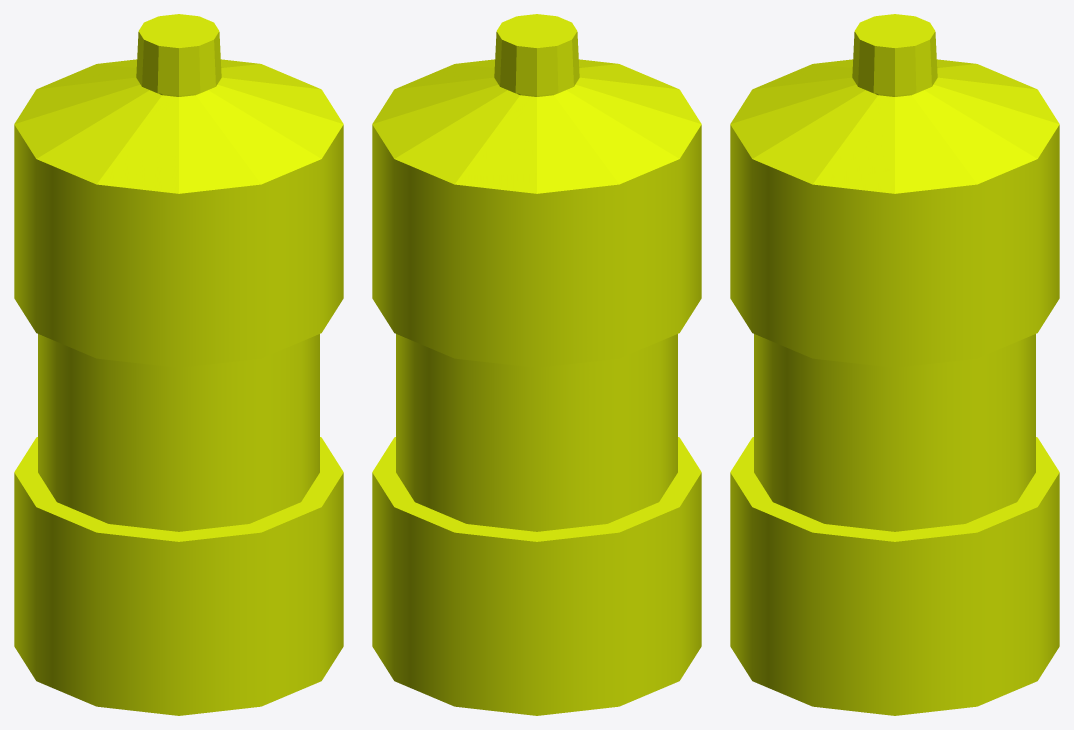
File: CleanSupply3.FBX
The picture shows the model from 3 angles, left to right: view 1: azimuth 30°, elevation 25°; view 2: azimuth 150°, elevation 25°; view 3: azimuth 270°, elevation 25°; orthographic projection.
Visible parts, largest first — view 1: Cylinder004; view 2: Cylinder004; view 3: Cylinder004.
Boxes of the visible parts, bbox=[...] form: Cylinder004: bbox=[14, 14, 343, 715]; Cylinder004: bbox=[372, 14, 701, 715]; Cylinder004: bbox=[730, 14, 1059, 715].
Bounding box in the file's own units: 0.2565 × 0.5284 × 0.2565.
